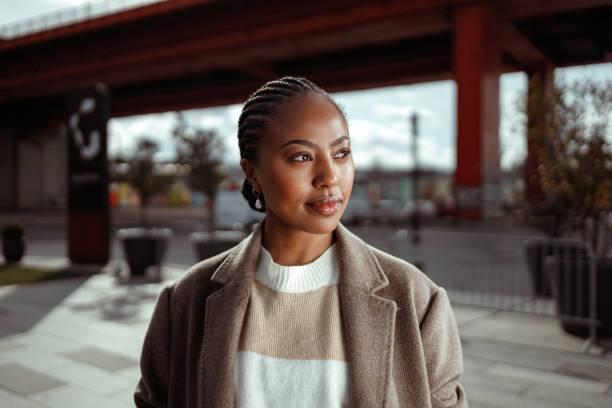no_goggle: (257, 140, 369, 168)
no_helmet: (232, 76, 360, 145)
no_vest: (130, 215, 473, 408)
